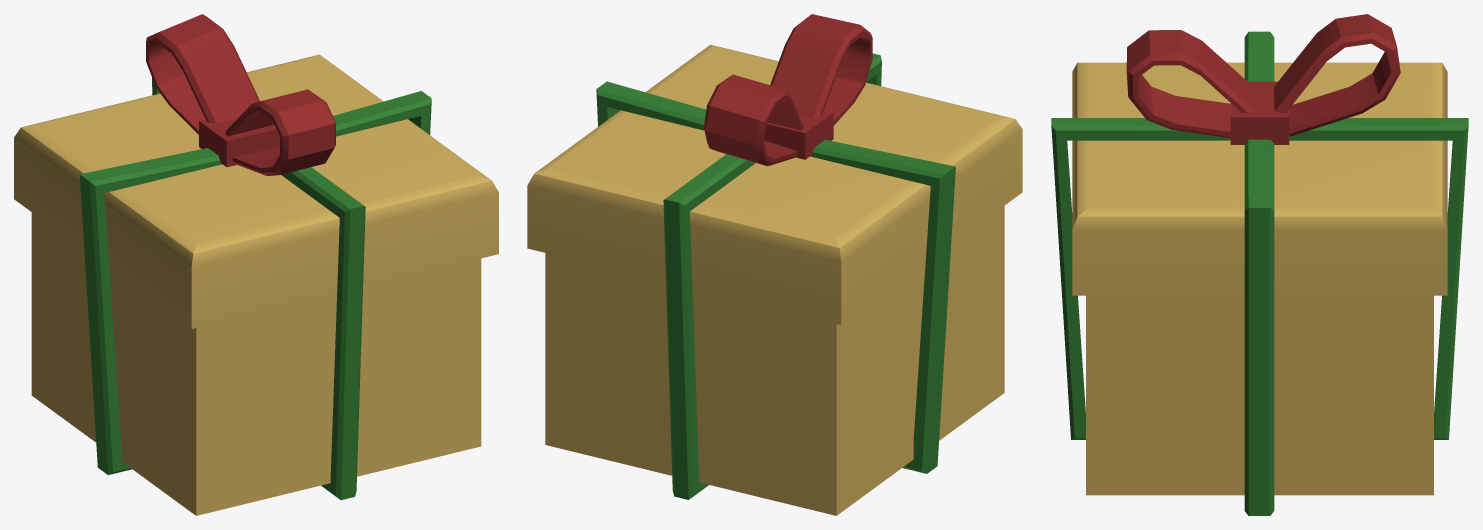
File: New_Giftbox.fbx
The picture shows the model from 3 angles, left to right: view 1: azimuth 30°, elevation 25°; view 2: azimuth 150°, elevation 25°; view 3: azimuth 270°, elevation 25°; orthographic projection. The views are drawn at different scales.
Visible parts, largest first — view 1: pCube1, pCube2, pCube3, pCube5, pCube4; view 2: pCube1, pCube2, pCube5, pCube3, pCube4; view 3: pCube1, pCube2, pCube5, pCube3, pCube4.
Part boxes in pixels (x1,y1,x2,y2): pCube1: [14, 54, 498, 515]; pCube2: [79, 78, 431, 500]; pCube3: [146, 14, 259, 134]; pCube5: [225, 89, 335, 175]; pCube4: [199, 118, 279, 167]; pCube1: [527, 44, 1022, 515]; pCube2: [596, 53, 955, 499]; pCube5: [770, 14, 872, 125]; pCube3: [703, 74, 803, 166]; pCube4: [764, 110, 833, 159]; pCube1: [1072, 62, 1447, 495]; pCube2: [1051, 31, 1468, 515]; pCube5: [1126, 30, 1254, 138]; pCube3: [1274, 14, 1400, 136]; pCube4: [1230, 81, 1289, 144].
Bounding box in the file's own units: 3.06 × 3.25 × 3.06.
